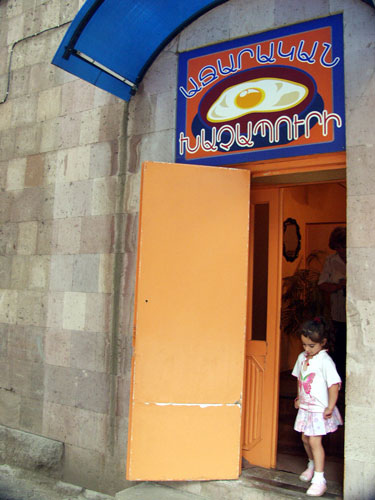without_mask: (299, 327, 327, 357)
